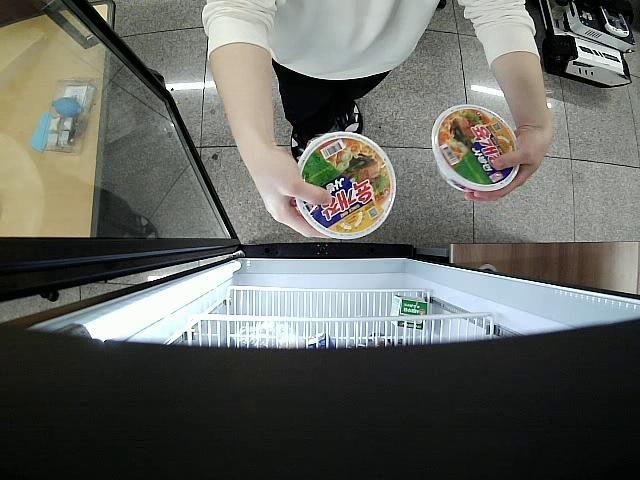09_yukGaeJang: (298, 132, 397, 239), (432, 105, 520, 190)
